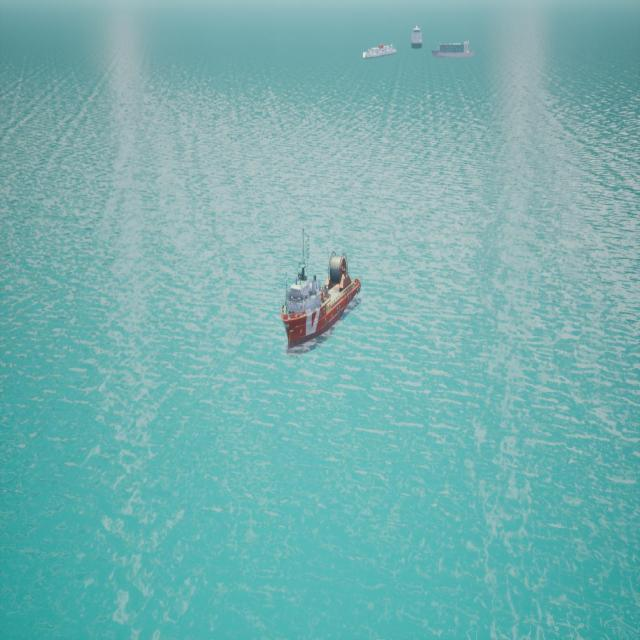tug boat: (280, 237, 362, 356)
